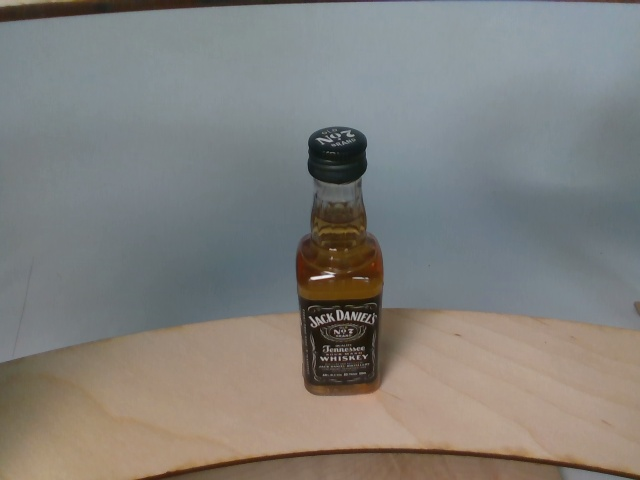whiskey: (297, 126, 385, 397)
